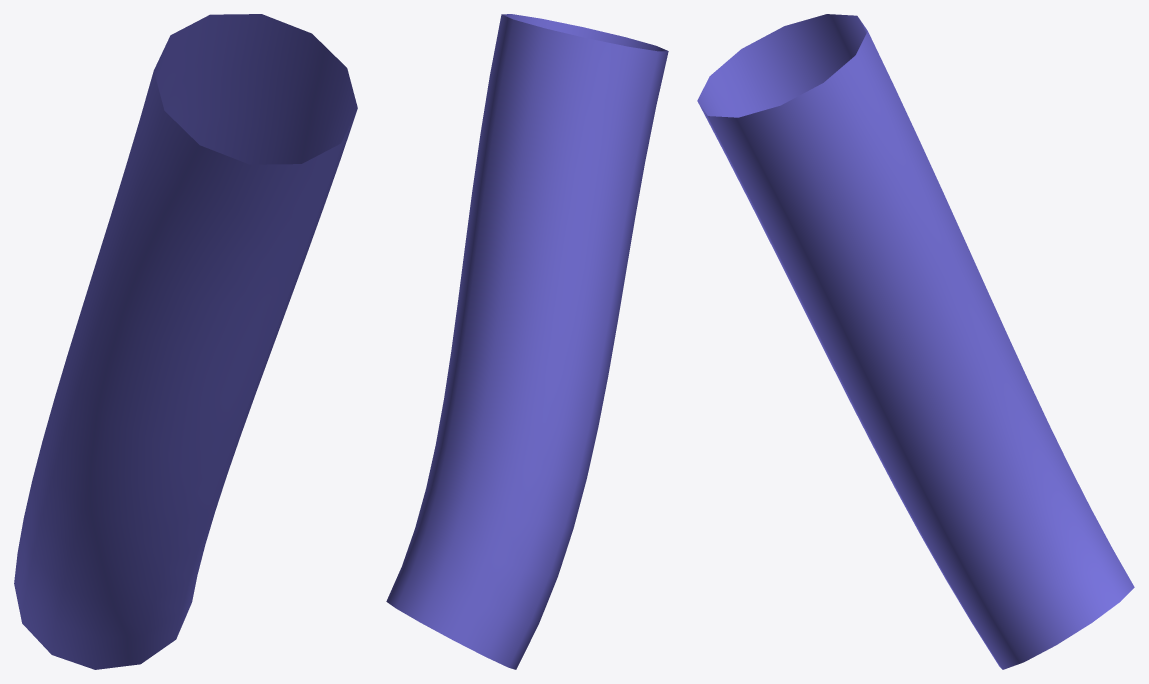
The model's file is Internal_iliac_vein.l_BezierCurve.084.glb.
3 renders of one model, left to right at view 1: azimuth 30°, elevation 25°; view 2: azimuth 150°, elevation 25°; view 3: azimuth 270°, elevation 25°, orthographic. The views are drawn at different scales.
Visible parts, largest first — view 1: Internal_iliac_vein.l_BezierCurve.084; view 2: Internal_iliac_vein.l_BezierCurve.084; view 3: Internal_iliac_vein.l_BezierCurve.084.
Part boxes in pixels (x1,y1,x2,y2): Internal_iliac_vein.l_BezierCurve.084: [14, 14, 357, 669]; Internal_iliac_vein.l_BezierCurve.084: [386, 14, 668, 669]; Internal_iliac_vein.l_BezierCurve.084: [697, 14, 1134, 669].
Size of the model in its own units: 0.00729 by 0.0261 by 0.0163.
